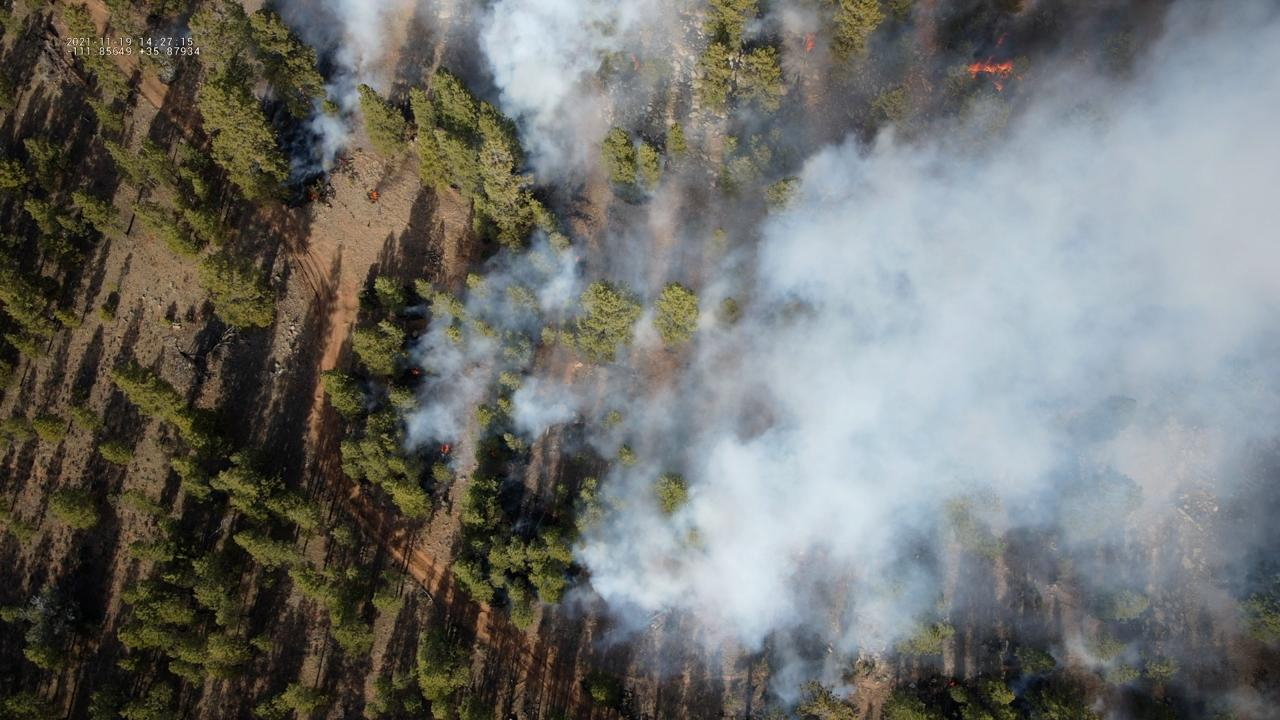fire: (963, 55, 1024, 93), (803, 30, 818, 57), (993, 29, 1010, 50), (628, 52, 642, 72), (438, 443, 451, 456), (368, 190, 379, 203), (308, 192, 318, 202), (409, 368, 421, 376), (948, 680, 956, 687)
smoke: (250, 0, 1280, 720), (151, 23, 195, 55)
